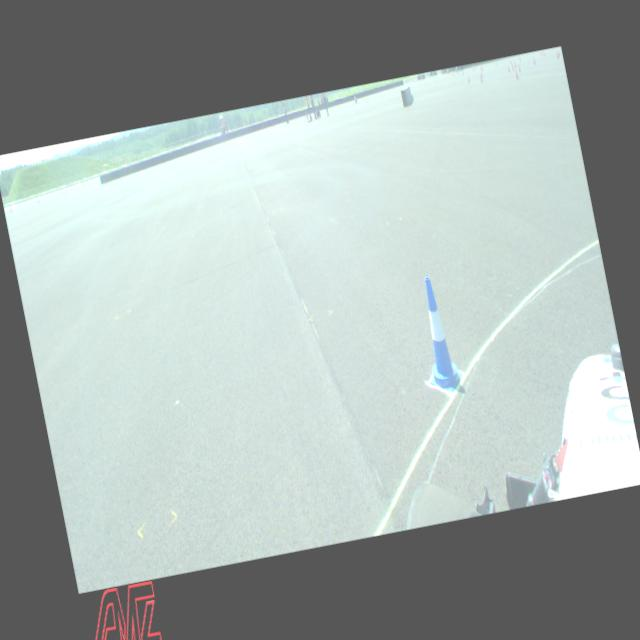blue_cone: (411, 274, 465, 396)
unknown_cone: (514, 69, 518, 79), (480, 74, 483, 83), (518, 64, 521, 72), (533, 58, 536, 66), (558, 48, 560, 58), (509, 59, 512, 65), (557, 51, 559, 60), (468, 76, 470, 84), (508, 65, 510, 73), (514, 61, 516, 69), (481, 70, 483, 77), (518, 54, 520, 61), (474, 64, 476, 70), (480, 64, 482, 70), (482, 65, 484, 71), (496, 61, 498, 67), (512, 64, 514, 70), (540, 50, 542, 56), (543, 50, 545, 56), (451, 72, 453, 77), (462, 70, 464, 75), (472, 66, 474, 71), (453, 72, 455, 76), (457, 70, 458, 74)
